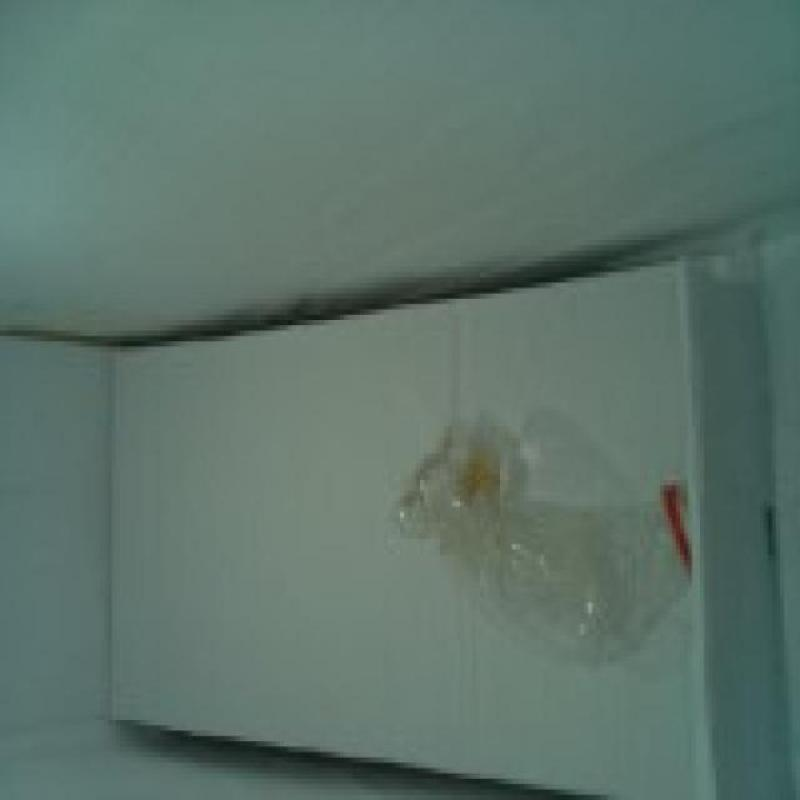botella: (386, 418, 692, 666)
